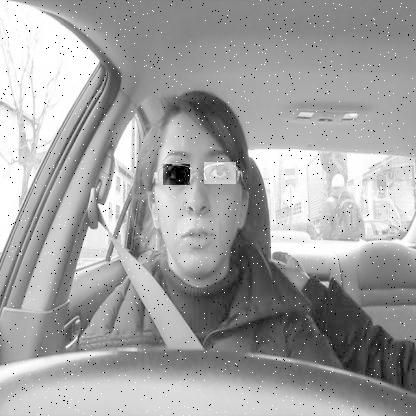seatbelt: (122, 79, 256, 349)
